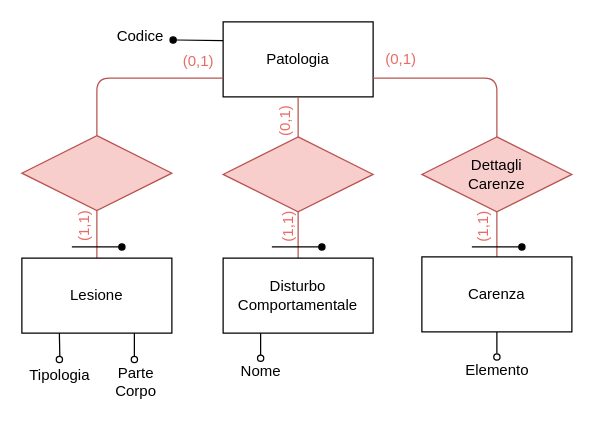
The diagram is 594 pixels wide and 421 high, and some of its shapes have lost their labels. The shapes that lost their labels are listed below. From the top down, each one's centre as x and y in pixels, then its label:
At point (96, 172): "Dettagli Lesioni".
At point (297, 174): "Dettagli Disturbi".
